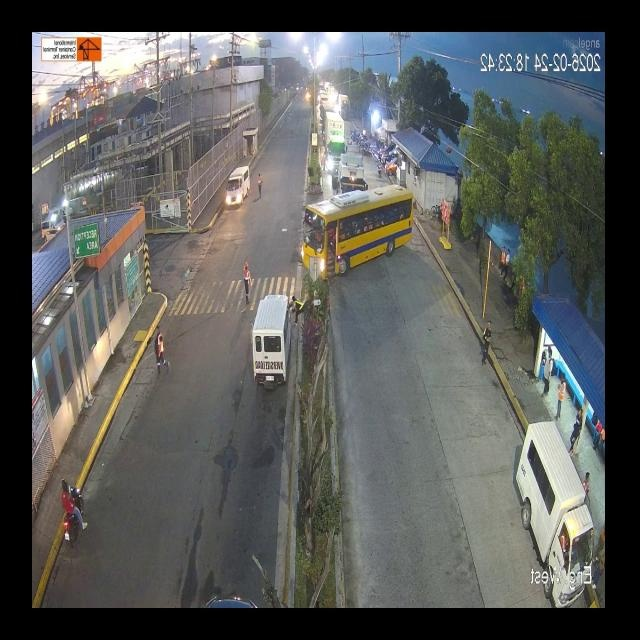bus: (295, 175, 421, 282)
car: (512, 435, 598, 565), (251, 285, 292, 402), (223, 163, 249, 210)
truck: (320, 111, 354, 170)
